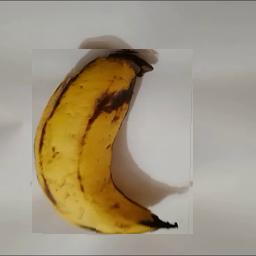Banana Semifresh: (33, 50, 194, 235)
